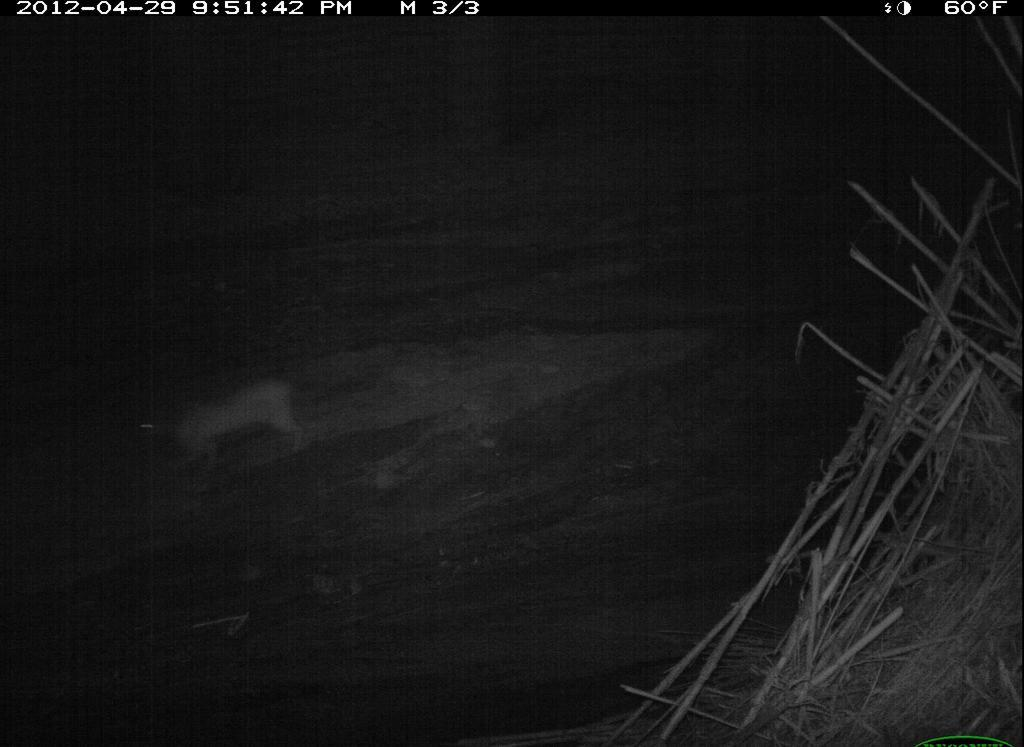bobcat: (126, 368, 317, 482)
